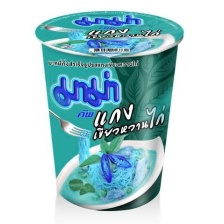paper_cup: (30, 6, 187, 217)
